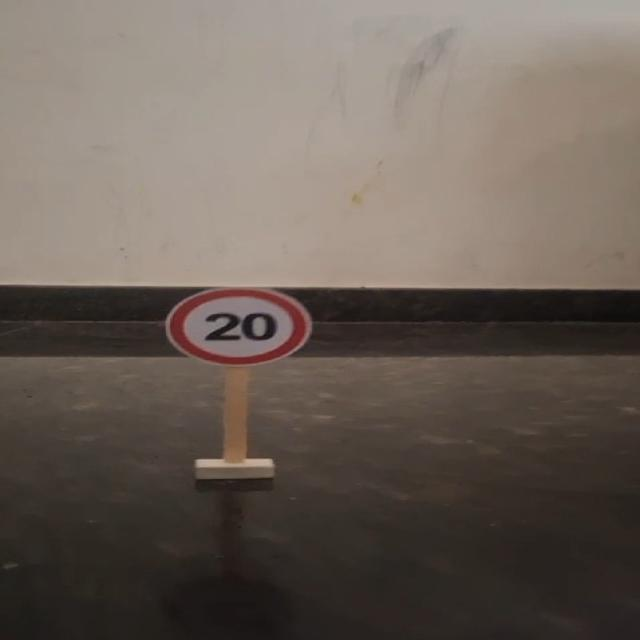Speed20: (159, 280, 331, 372)
